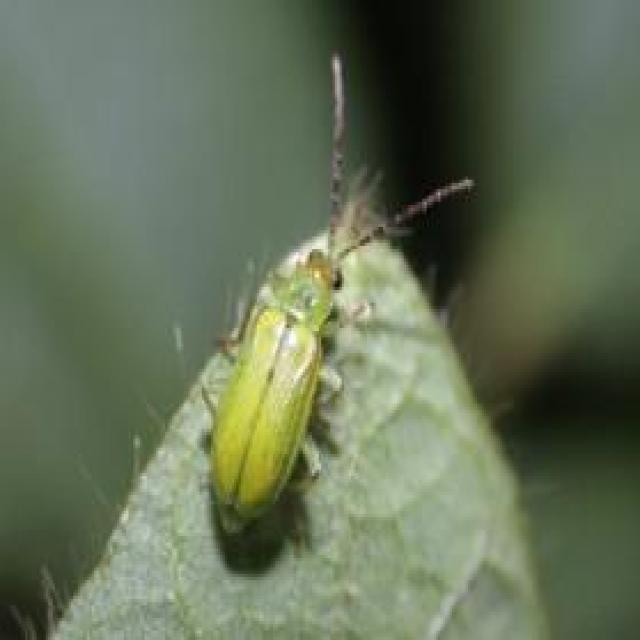gusano_gris: (202, 57, 472, 540)
